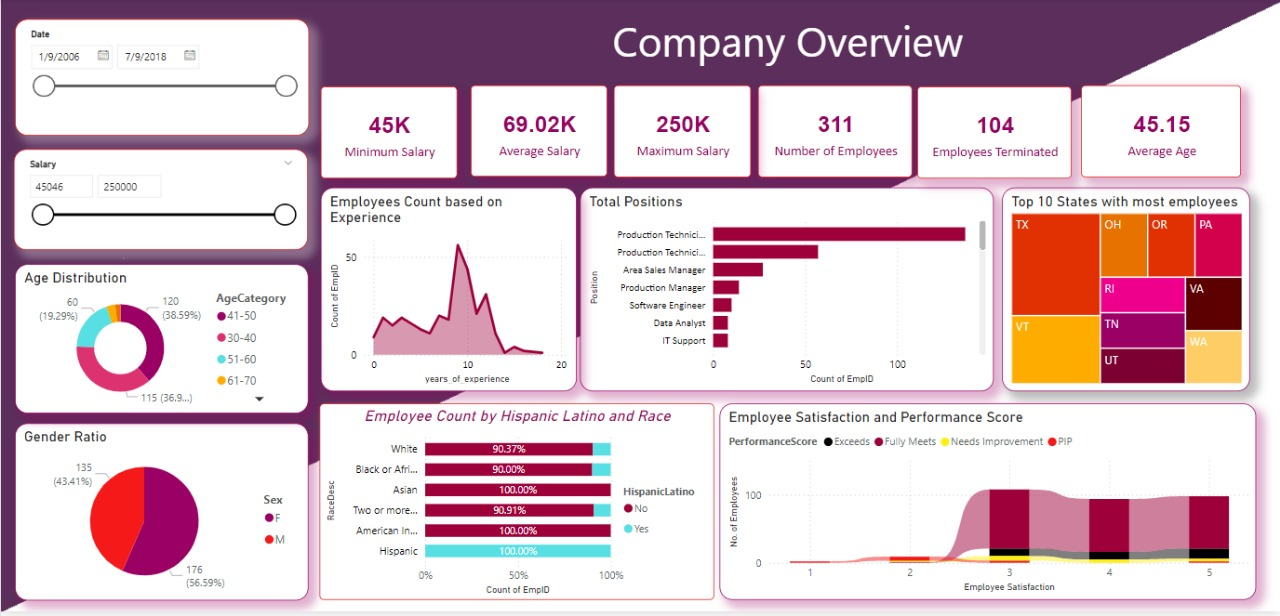

What the dashboard file says about the page in this screenshot:
{"tool":"powerbi","page":{"name":"Company Overview","canvas":[1500,720],"ordinal":1},"visuals":[{"type":"card","fields":{"Values":["CountNonNull(HRDataset_v14.EmpID)"]},"box":[887.3,102.5,180.8,108.3],"z":0},{"type":"card","fields":{"Values":["Avg(HRDataset_v14.Salary)"]},"box":[550.2,102.5,159.6,107.2],"z":1000},{"type":"card","fields":{"Values":["Min(HRDataset_v14.Salary)"]},"box":[375,103.6,159.6,108.3],"z":2000},{"type":"card","fields":{"Values":["Max(HRDataset_v14.Salary)"]},"box":[718.8,102.5,160.7,108.3],"z":3000},{"type":"slicer","title":"Top 5 Termination Reason","fields":{"Values":["HRDataset_v14.DateofHire"]},"box":[16.2,24.9,345.1,137],"z":4000},{"type":"barChart","title":"Total Positions ","fields":{"Category":["HRDataset_v14.Position"],"Y":["CountNonNull(HRDataset_v14.EmpID)"]},"box":[678.7,222.4,484.7,239.1],"z":5000},{"type":"stackedAreaChart","title":"Employees Count based on Experience","fields":{"Y":["CountNonNull(HRDataset_v14.EmpID)"],"Category":["HRDataset_v14.years_of_experience"]},"box":[374.2,222.7,300.3,238.9],"z":6000},{"type":"treemap","title":"Top 10 States with most employees","fields":{"Group":["HRDataset_v14.State"],"Values":["CountNonNull(HRDataset_v14.EmpID)"]},"box":[1172.6,222.4,290.3,239.1],"z":7000},{"type":"pieChart","title":"Gender Ratio ","fields":{"Y":["CountNonNull(HRDataset_v14.EmpID)"],"Category":["HRDataset_v14.Sex"]},"box":[16.2,498.3,343.9,208.1],"z":8000},{"type":"donutChart","title":"Age Distribution","fields":{"Y":["CountNonNull(HRDataset_v14.EmpID)"],"Category":["HRDataset_v14.AgeCategory"]},"box":[16.7,311.4,343.8,175.3],"z":9000},{"type":"hundredPercentStackedBarChart","title":"Employee Count by Hispanic Latino and Race","fields":{"Y":["CountNonNull(HRDataset_v14.EmpID)"],"Category":["HRDataset_v14.RaceDesc"],"Series":["HRDataset_v14.HispanicLatino"]},"box":[373.8,475.9,462.2,230.5],"z":10000},{"type":"ribbonChart","title":"Employee Satisfaction and Performance Score","fields":{"Category":["HRDataset_v14.EmpSatisfaction"],"Y":["CountNonNull(HRDataset_v14.EmpID)"],"Series":["HRDataset_v14.PerformanceScore"]},"box":[842.2,475.9,629.2,230.5],"z":11000},{"type":"slicer","title":"Top 5 Termination Reason","fields":{"Values":["HRDataset_v14.Salary"]},"box":[15.6,177.5,344.9,118.3],"z":12000},{"type":"card","fields":{"Values":["Sum(HRDataset_v14.Termd)"]},"box":[1073.7,103.6,180.8,108.3],"z":13000},{"type":"card","fields":{"Values":["Avg(HRDataset_v14.age)"]},"box":[1265.7,102.5,187.5,108.3],"z":14000},{"type":"textbox","box":[373.8,12.5,1097.6,81],"z":15000}]}

Visuals, with their boxes in screenshot pixels (x1, y1, x2, y2), scaled from the page's 1500x720 canvas onto the 1280x616 screenshot:
card - CountNonNull(HRDataset_v14.EmpID): 757,88,911,180
card - Avg(HRDataset_v14.Salary): 470,88,606,179
card - Min(HRDataset_v14.Salary): 320,89,456,181
card - Max(HRDataset_v14.Salary): 613,88,751,180
"Top 5 Termination Reason" slicer: 14,21,308,139
"Total Positions " barChart: 579,190,993,395
"Employees Count based on Experience" stackedAreaChart: 319,191,576,395
"Top 10 States with most employees" treemap: 1001,190,1248,395
"Gender Ratio " pieChart: 14,426,307,604
"Age Distribution" donutChart: 14,266,308,416
"Employee Count by Hispanic Latino and Race" hundredPercentStackedBarChart: 319,407,713,604
"Employee Satisfaction and Performance Score" ribbonChart: 719,407,1256,604
"Top 5 Termination Reason" slicer: 13,152,308,253
card - Sum(HRDataset_v14.Termd): 916,89,1071,181
card - Avg(HRDataset_v14.age): 1080,88,1240,180
textbox: 319,11,1256,80
